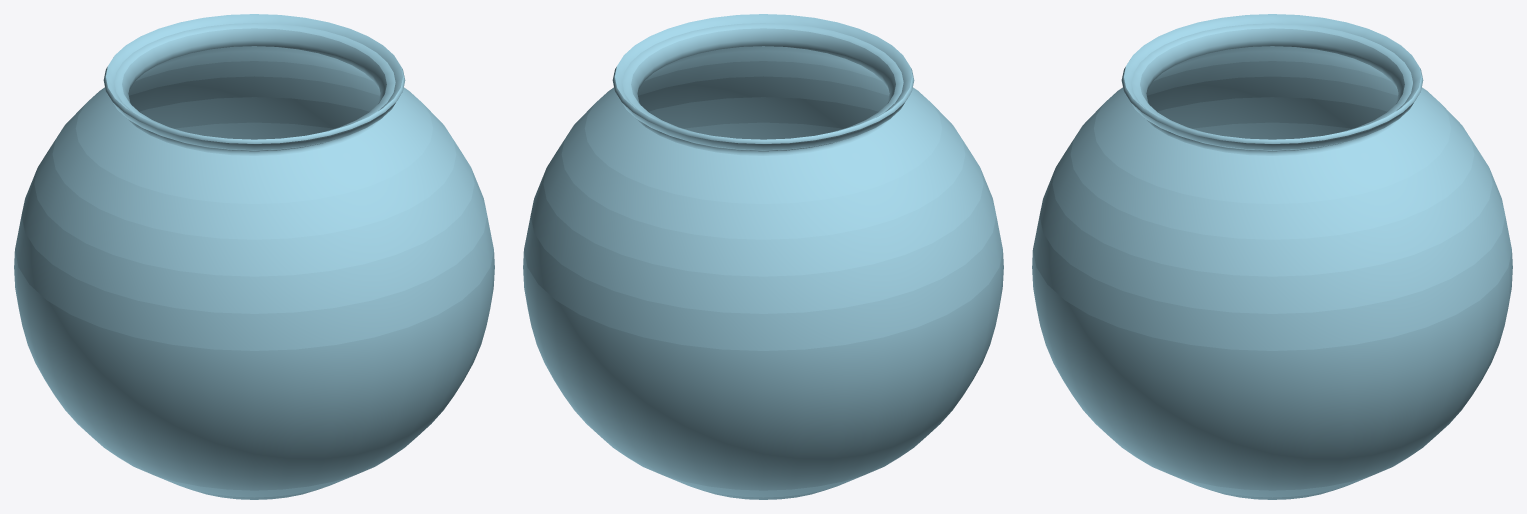
Rendered from Pecera.obj.
3 renders of one model, left to right at view 1: azimuth 30°, elevation 25°; view 2: azimuth 150°, elevation 25°; view 3: azimuth 270°, elevation 25°, orthographic.
Parts seen in each view (by area): view 1: Pecera__Fish_bowl_v1_l1__fish_bowl_bowl; view 2: Pecera__Fish_bowl_v1_l1__fish_bowl_bowl; view 3: Pecera__Fish_bowl_v1_l1__fish_bowl_bowl.
Part boxes in pixels (x1,y1,x2,y2): Pecera__Fish_bowl_v1_l1__fish_bowl_bowl: (14, 14, 494, 499); Pecera__Fish_bowl_v1_l1__fish_bowl_bowl: (523, 14, 1003, 499); Pecera__Fish_bowl_v1_l1__fish_bowl_bowl: (1032, 14, 1512, 499).
Size of the model in its own units: 0.3794 by 0.3334 by 0.3794.
